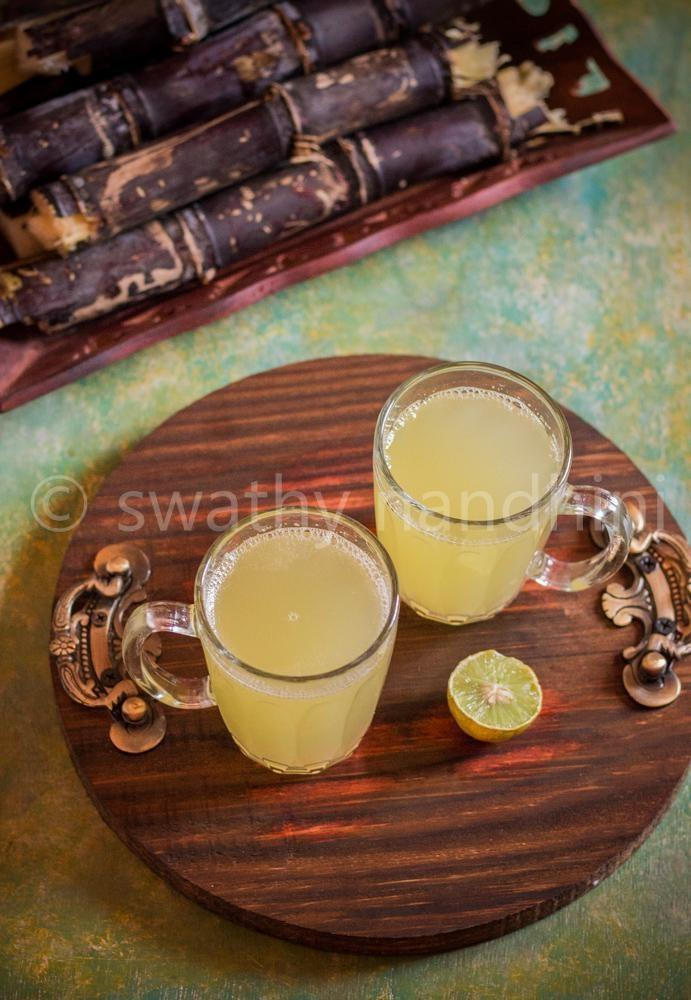glass-mug: (121, 506, 404, 777), (369, 358, 633, 626)
